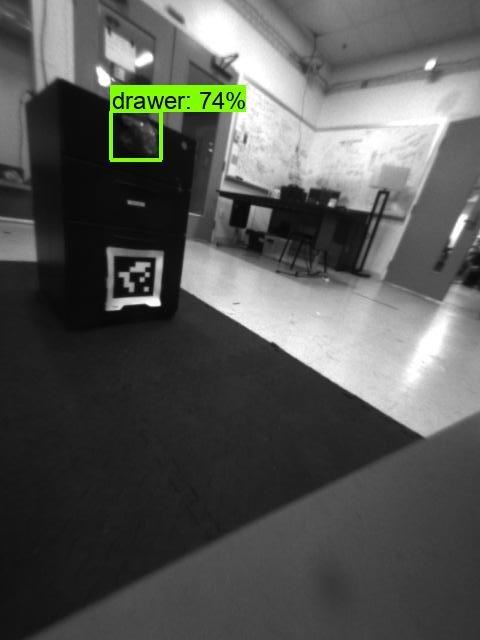drawer: (108, 110, 161, 169)
